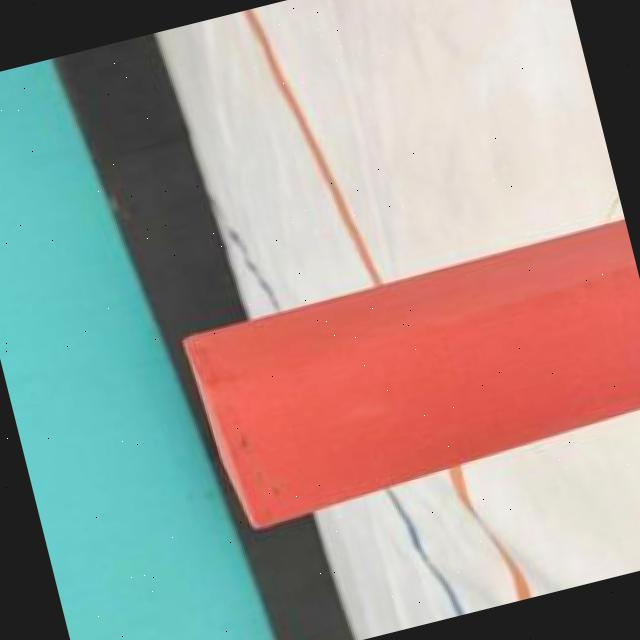redbox: (179, 215, 640, 534)
